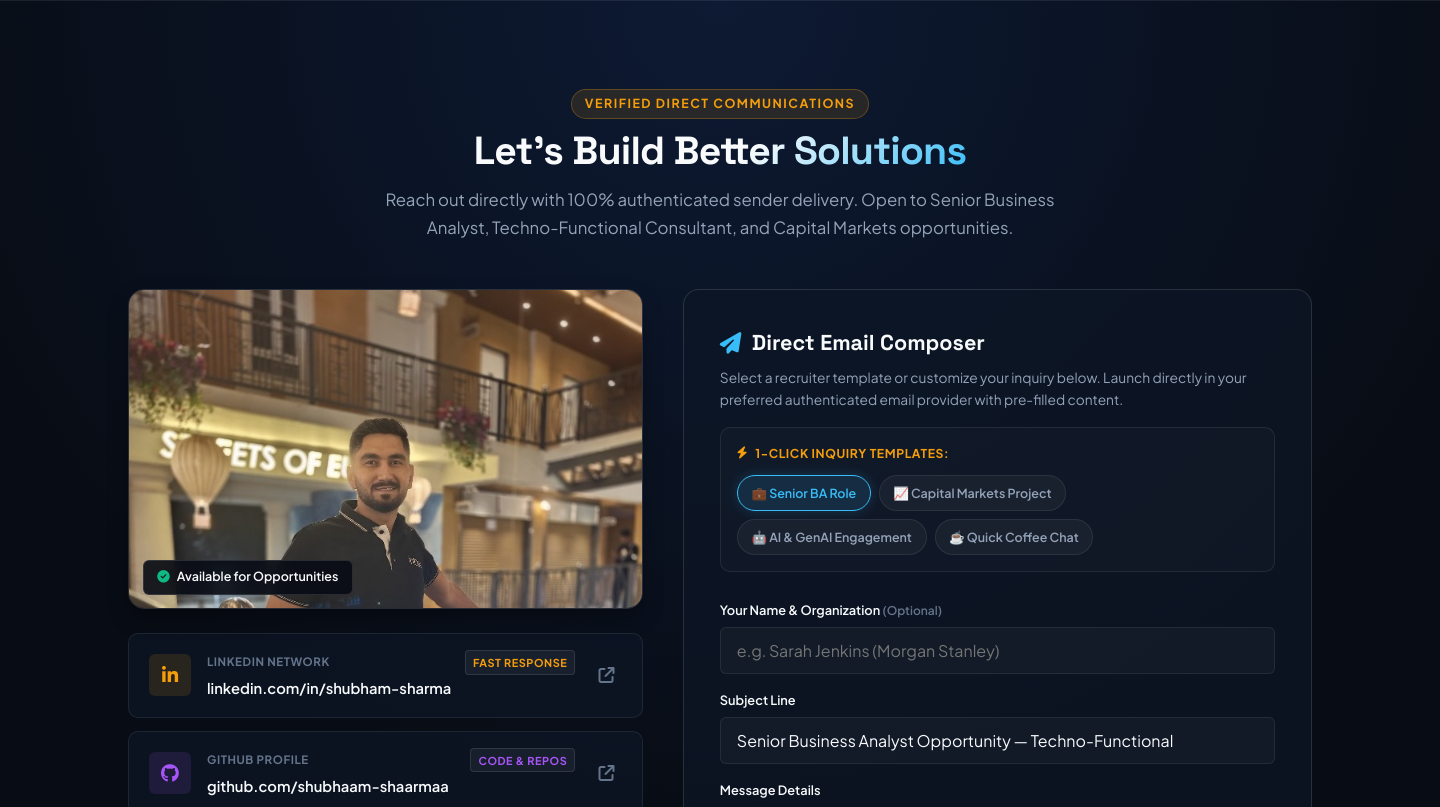
Test: Techno-Functional Portfolio Comprehensive Regression Suite › Contact Component › auto-populates subject and message when recruiter preset chip is selected
Click the button "📈 Capital Markets Project".
click(972, 493)  # box [879,475,1066,511]
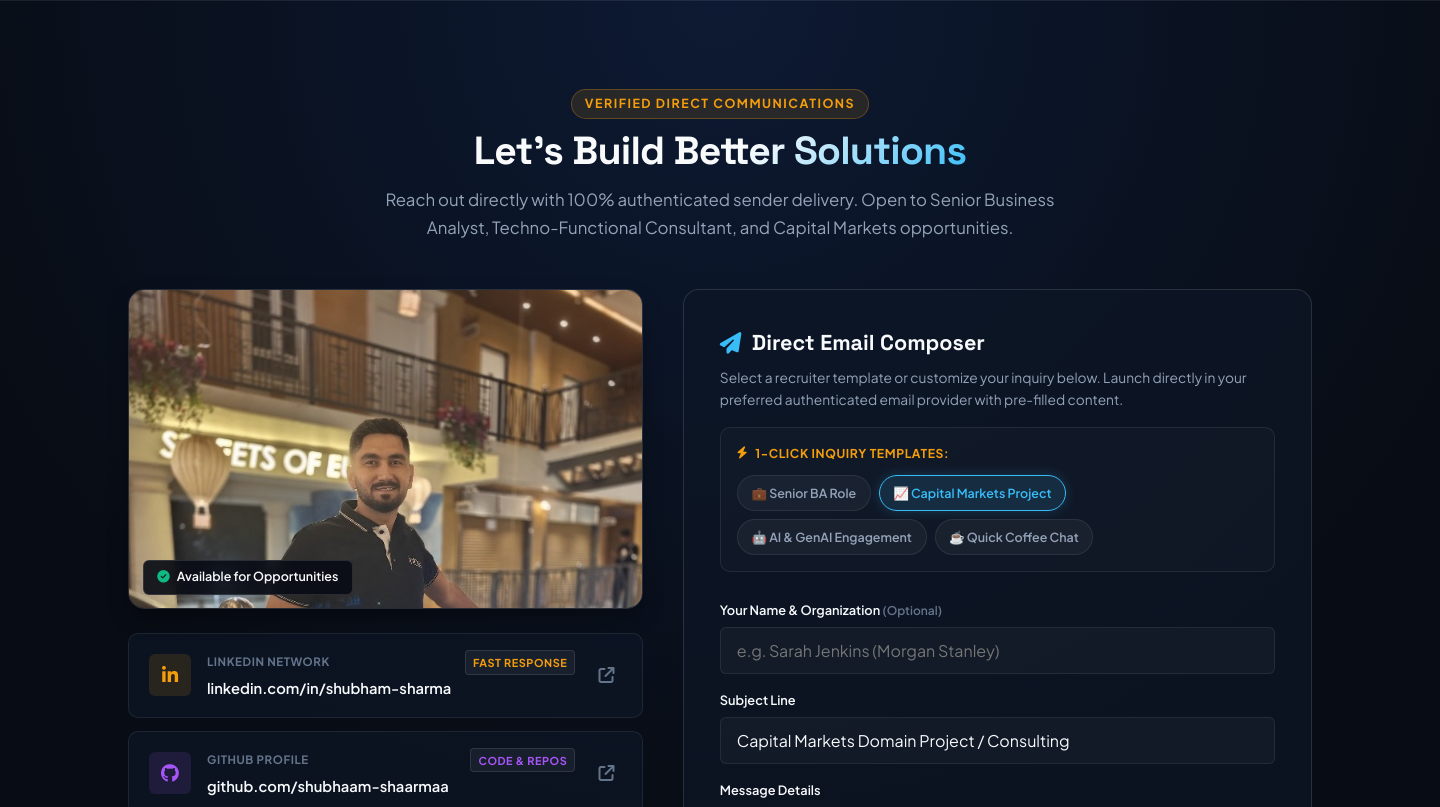
Now the field labelled "Subject Line" holds "Capital Markets Domain Project / Consulting", box [720,717,1275,764]
